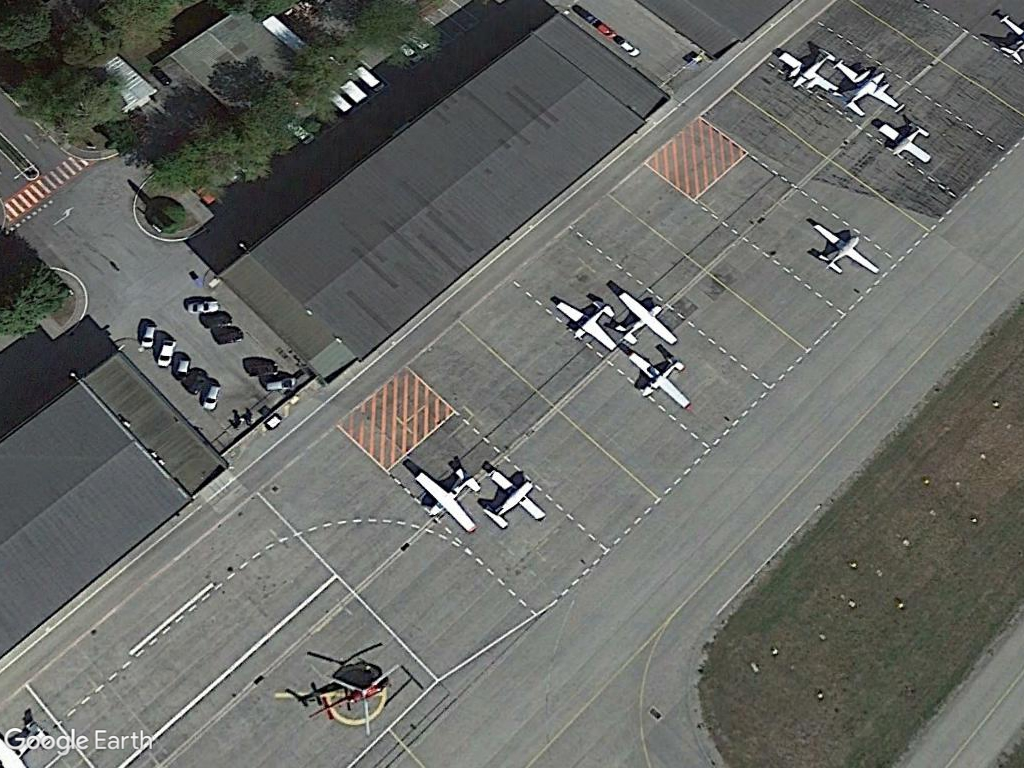helicopter: (281, 662, 406, 739)
trainer: (406, 464, 481, 538), (804, 217, 884, 281), (624, 344, 698, 413), (482, 460, 549, 531), (548, 293, 616, 353), (615, 285, 679, 347), (872, 117, 936, 167)
